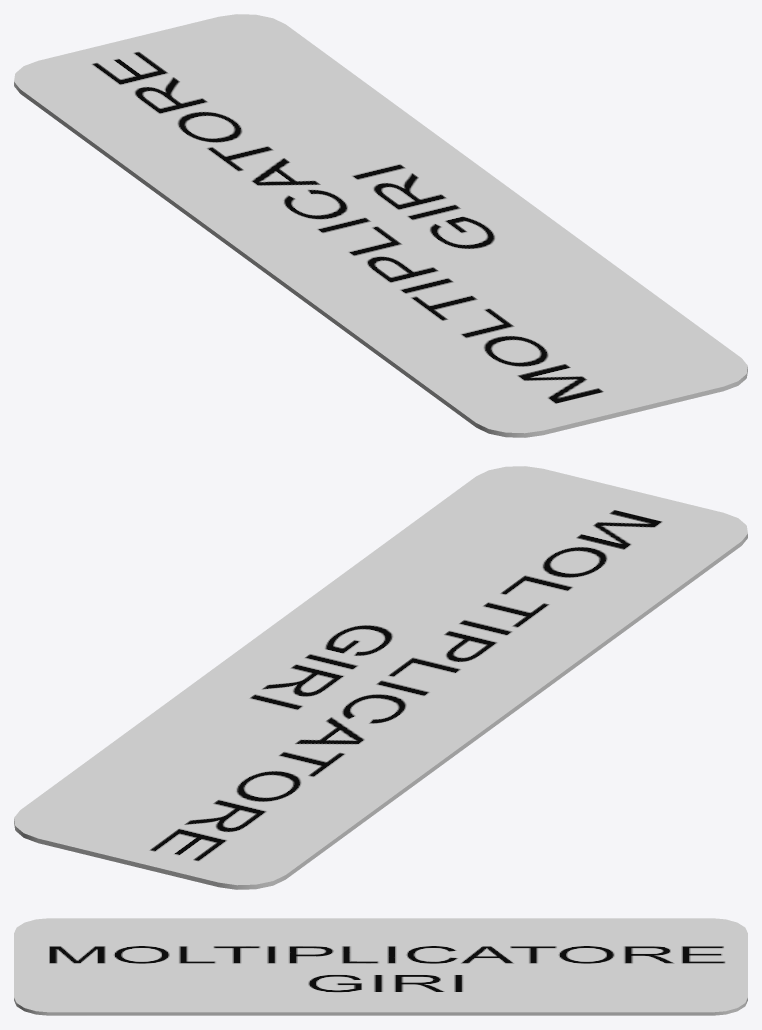
File: moltiplicatore giri.fbx
The picture shows the model from 3 angles, top to bottom: view 1: azimuth 30°, elevation 25°; view 2: azimuth 150°, elevation 25°; view 3: azimuth 270°, elevation 25°; orthographic projection. The views are drawn at different scales.
Parts seen in each view (by area): view 1: pCube2; view 2: pCube2; view 3: pCube2.
Boxes of the visible parts, x1,y1,x2,y2 form: pCube2: [14, 14, 747, 437]; pCube2: [14, 466, 747, 889]; pCube2: [14, 918, 747, 1015].
Size of the model in its own units: 29.89 by 0.5 by 98.47.
1 material, 1 textured.
